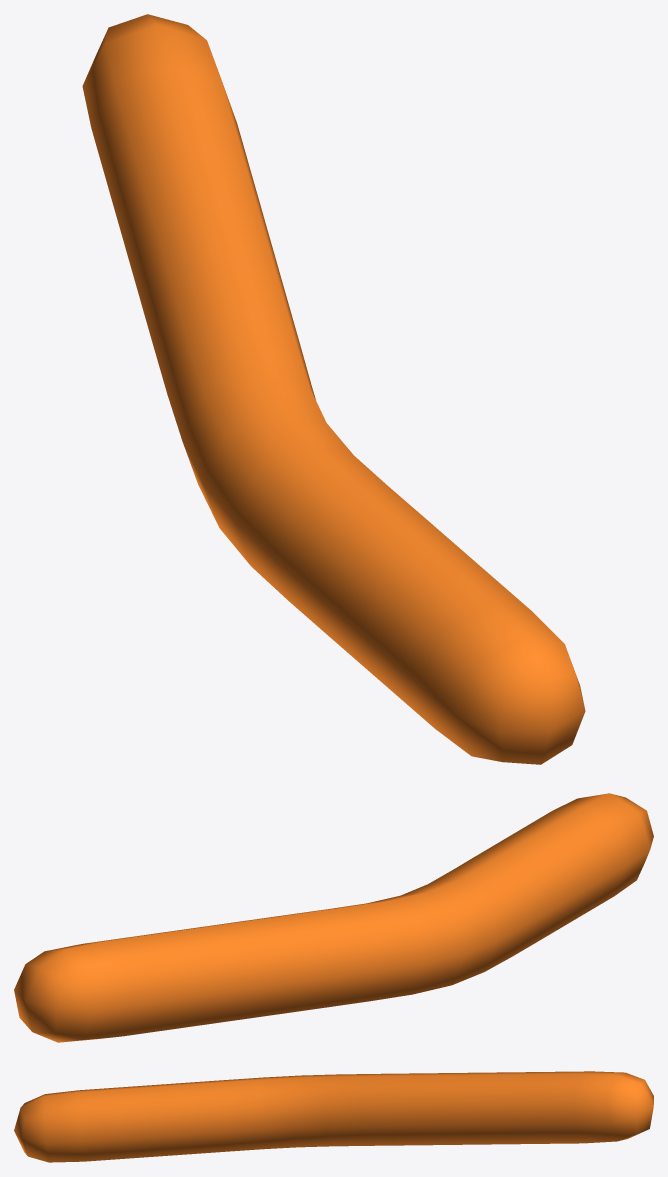
Rendered from GEO_Powertrain_HV_Front_Cable_L.glb.
3 views of the same model, one above another, from view 1: azimuth 30°, elevation 25°; view 2: azimuth 150°, elevation 25°; view 3: azimuth 270°, elevation 25° (orthographic). The views are drawn at different scales.
Parts seen in each view (by area): view 1: GEO_Powertrain_HV_Front_Cable_L; view 2: GEO_Powertrain_HV_Front_Cable_L; view 3: GEO_Powertrain_HV_Front_Cable_L.
Part boxes in pixels (box(x1,y1,x2,y2)): GEO_Powertrain_HV_Front_Cable_L: box(82, 14, 585, 764); GEO_Powertrain_HV_Front_Cable_L: box(14, 793, 653, 1042); GEO_Powertrain_HV_Front_Cable_L: box(14, 1071, 653, 1162).
Bounding box in the file's own units: 0.085 × 0.0668 × 0.2849.
